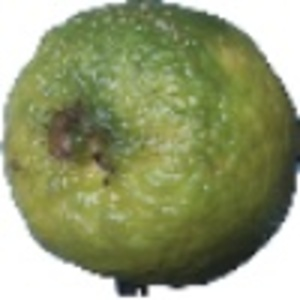limão: (1, 1, 300, 299)
